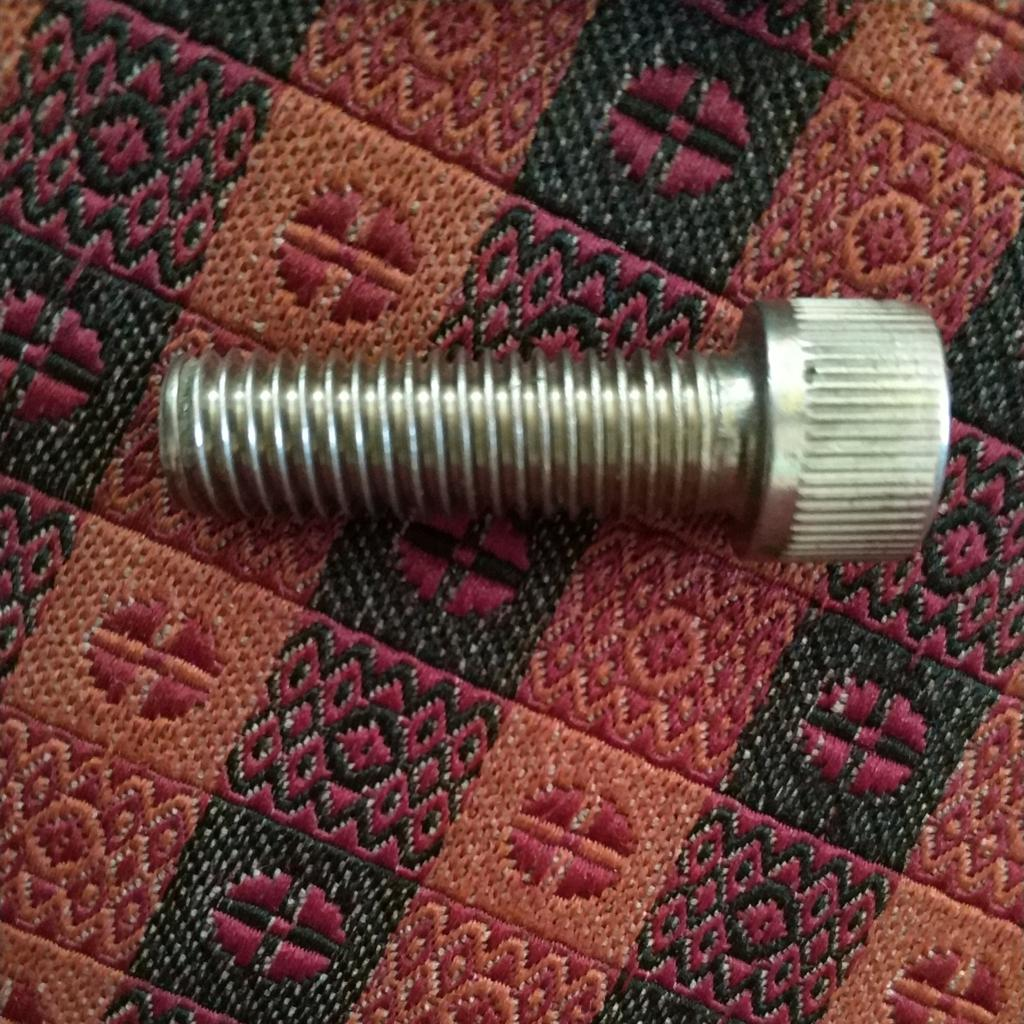screwtype1silver: (150, 281, 954, 565)
